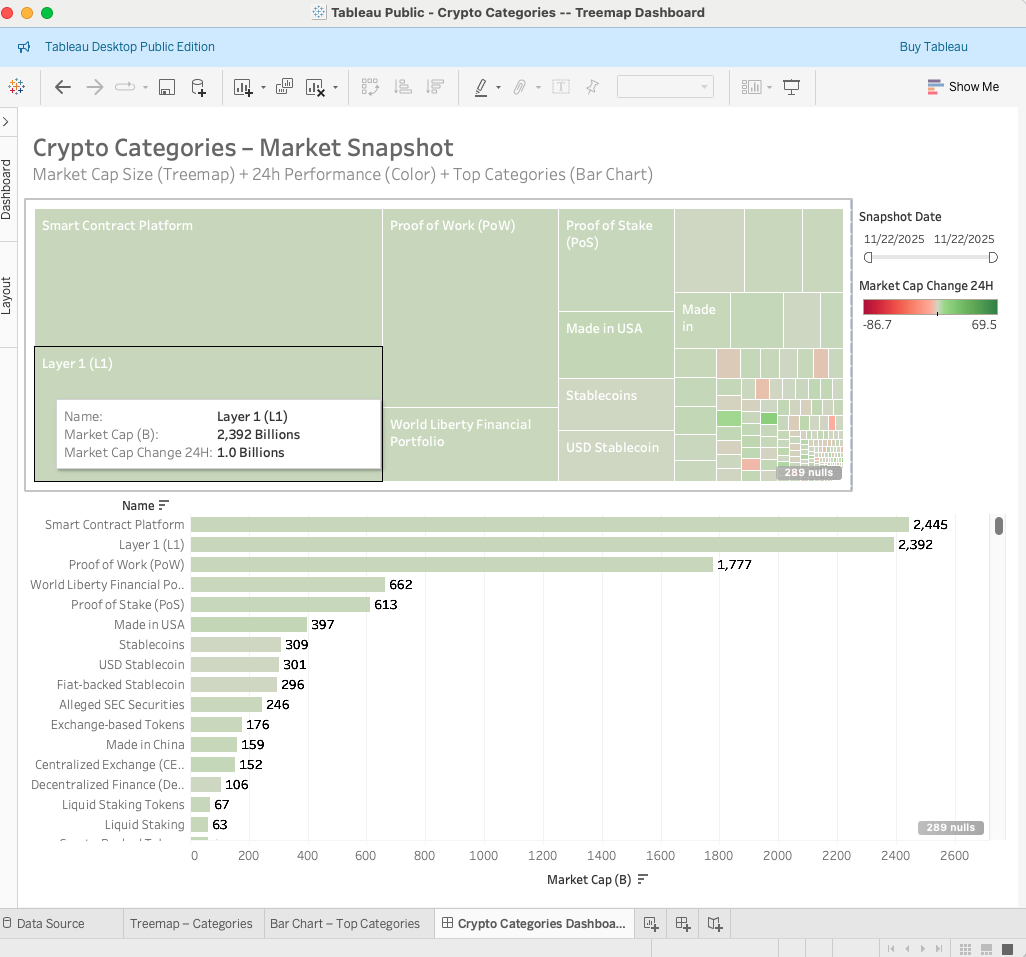

This screenshot's page, from the dashboard's own definition file:
{"tool":"tableau","page":{"name":"Crypto Categories Dashboard","canvas":[1000,800],"ordinal":0},"visuals":[{"type":"text","box":[8,8,984,84.8]},{"type":"worksheet","title":"Treemap – Categories","mark":"Automatic","box":[8,92.8,825,290.2]},{"type":"filter","title":"Treemap – Categories","param":"[federated.1xvc7bu0zf21in1byho240f5klhs].[none:snapshot_date:qk]","box":[837,96.8,151,69]},{"type":"legend","title":"Treemap – Categories","param":"[federated.1xvc7bu0zf21in1byho240f5klhs].[sum:market_cap_change_24h:qk]","box":[837,165.8,151,95]},{"type":"worksheet","title":"Bar Chart – Top Categories","mark":"Automatic","rows":["name"],"cols":["Calculation_2663175501416198144"],"box":[8,383,984,409]}]}

Visuals, with their boxes on the page's 1000x800 design canvas (x1, y1, x2, y2). These are canvas units, not pixel positions in the 1026x957 screenshot, which may show the page scaled, cropped or inside an application window:
text: box=[8, 8, 992, 93]
"Treemap – Categories" worksheet: box=[8, 93, 833, 383]
"Treemap – Categories" filter: box=[837, 97, 988, 166]
"Treemap – Categories" legend: box=[837, 166, 988, 261]
"Bar Chart – Top Categories" worksheet: box=[8, 383, 992, 792]
